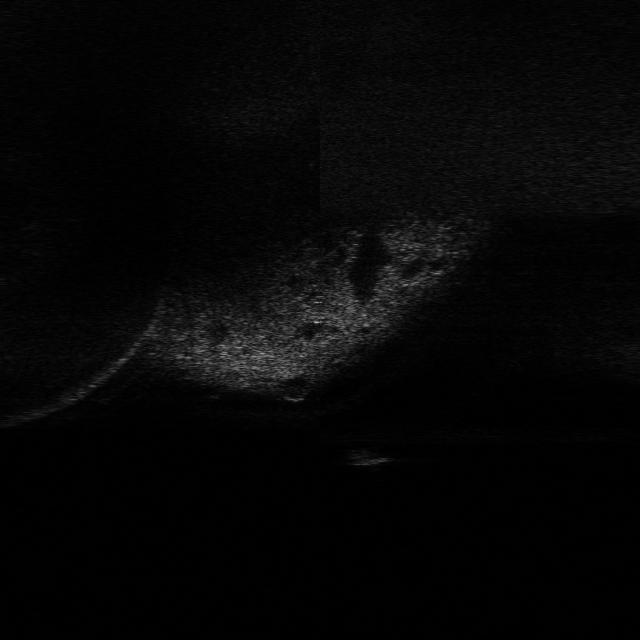cube: (337, 446, 394, 472)
